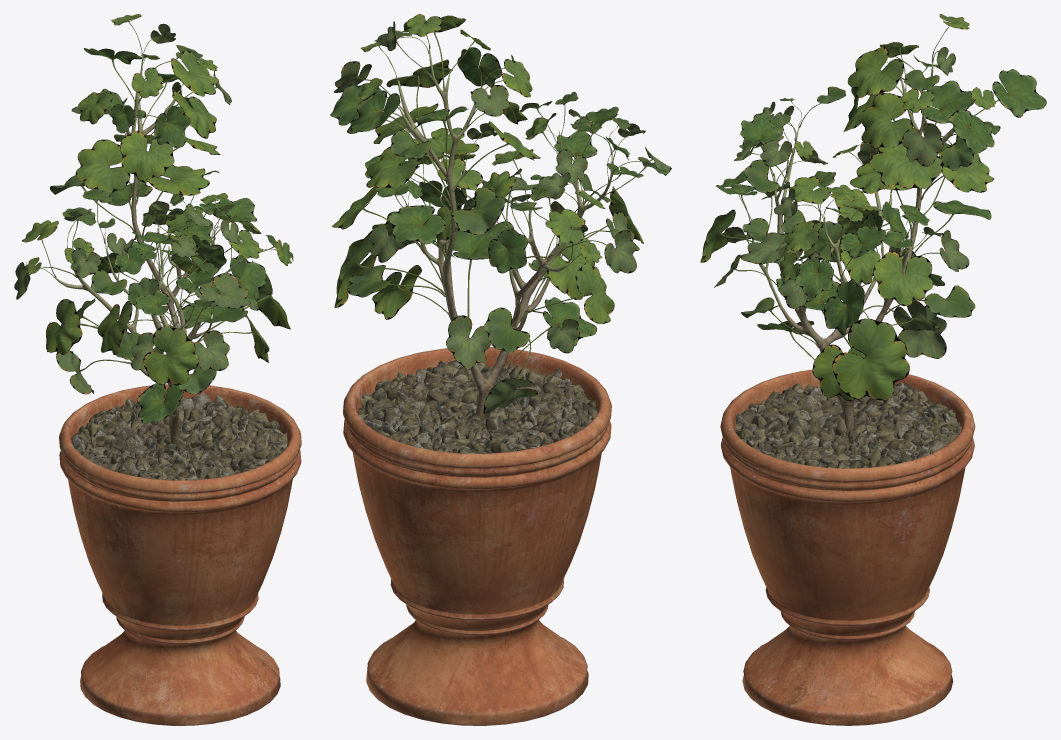
File: potted_plant_01.glb
3 views of the same model, side by side, from view 1: azimuth 30°, elevation 25°; view 2: azimuth 150°, elevation 25°; view 3: azimuth 270°, elevation 25° (orthographic). The views are drawn at different scales.
Parts seen in each view (by area): view 1: potted_plant_01_stem, potted_plant_01_leaves; view 2: potted_plant_01_stem, potted_plant_01_leaves; view 3: potted_plant_01_stem, potted_plant_01_leaves.
Part boxes in pixels (box(x1,y1,x2,y2)): potted_plant_01_stem: box(54, 54, 301, 725); potted_plant_01_leaves: box(14, 14, 293, 423); potted_plant_01_stem: box(343, 48, 612, 725); potted_plant_01_leaves: box(330, 14, 671, 414); potted_plant_01_stem: box(720, 55, 975, 725); potted_plant_01_leaves: box(700, 14, 1046, 401).
Bounding box in the file's own units: 0.5874 × 1.34 × 0.6336.
Materials: 2 (2 with a texture image).
